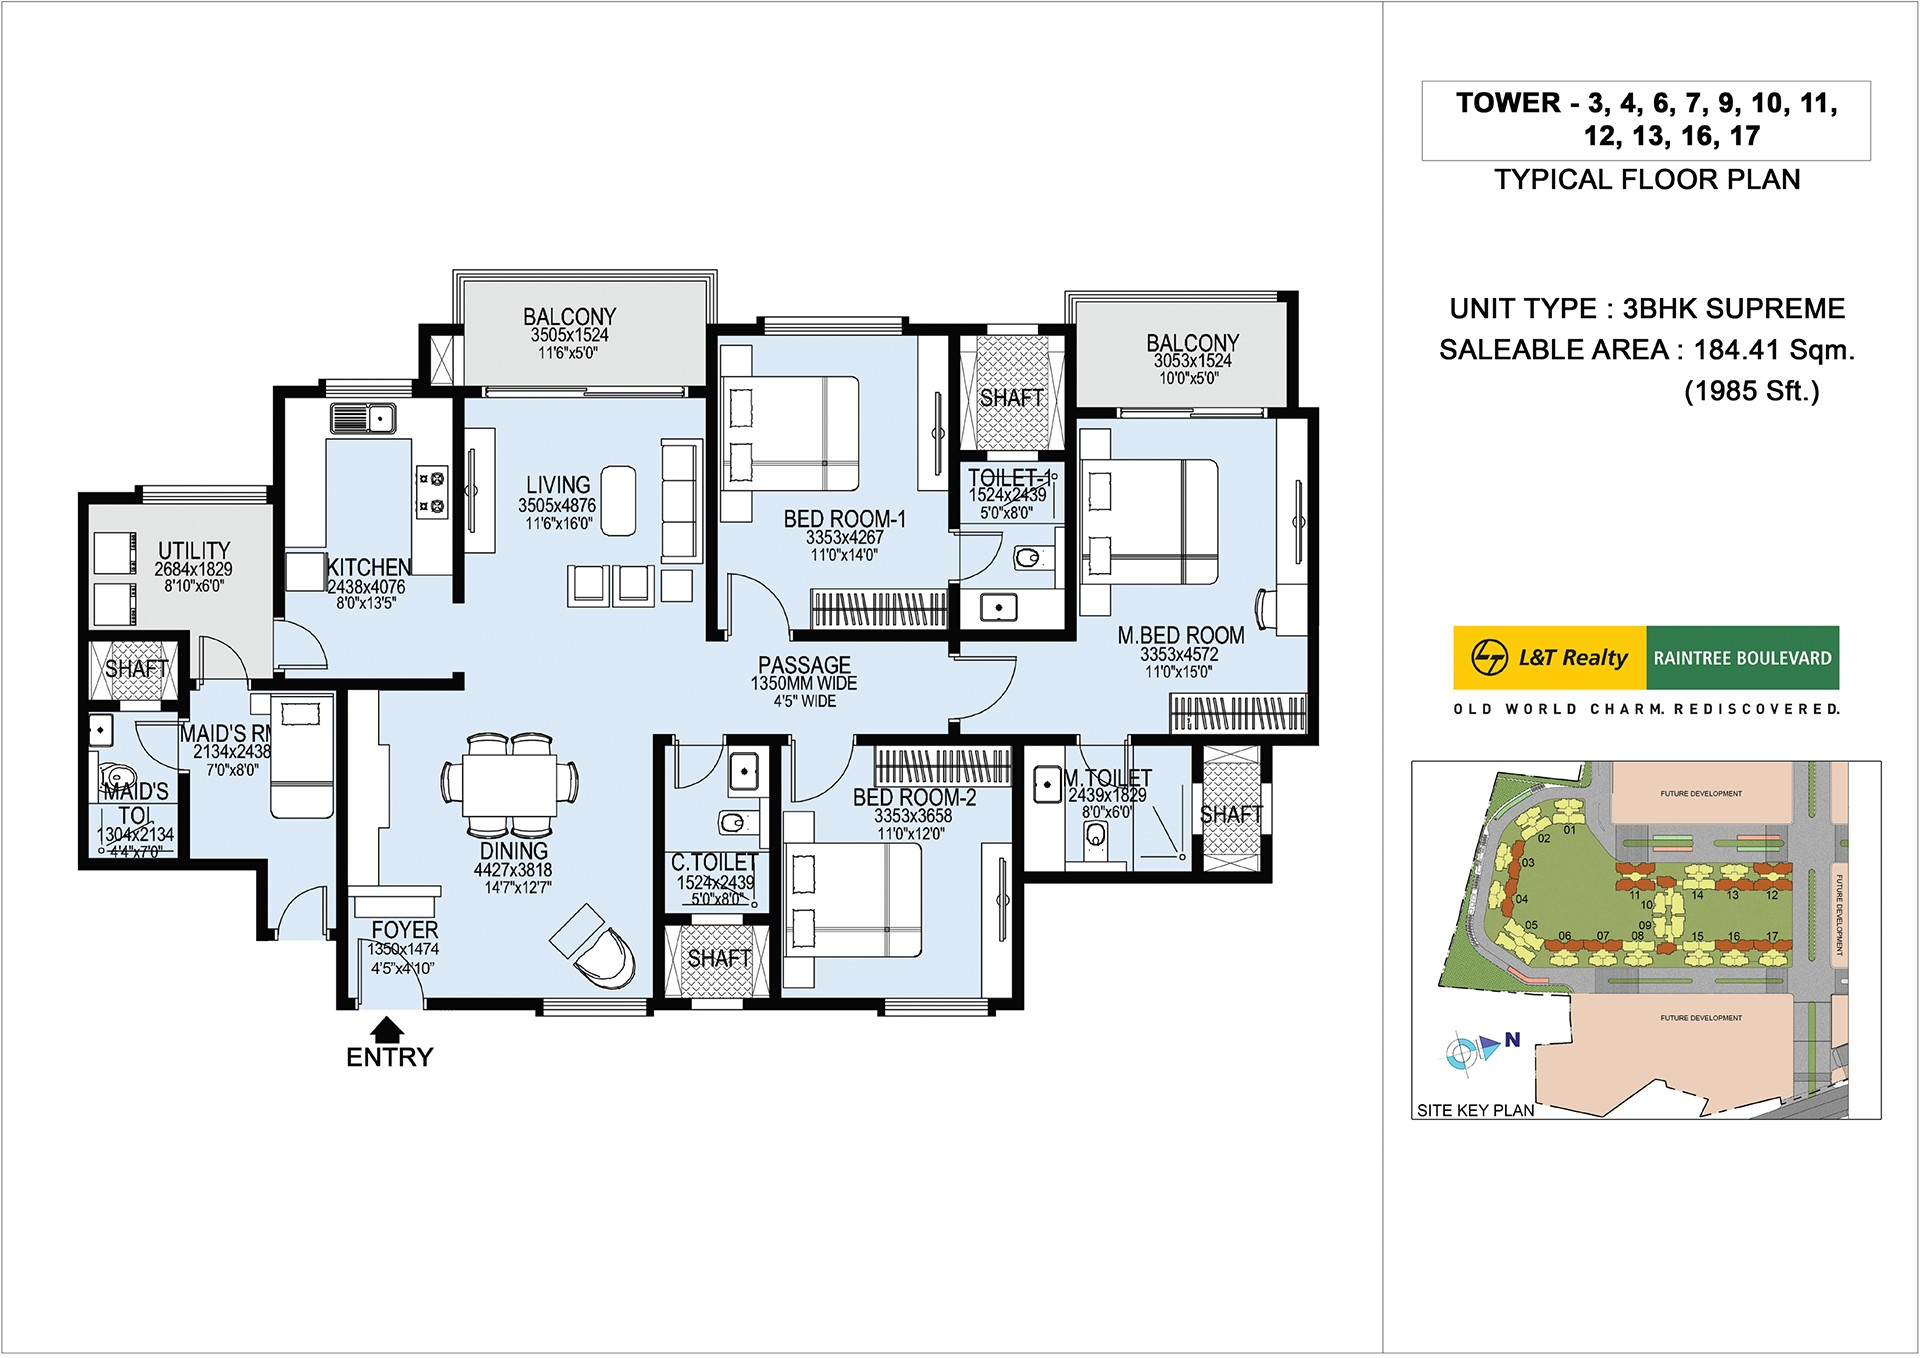window: (477, 384, 690, 403), (140, 479, 269, 509), (761, 315, 905, 339), (881, 994, 992, 1021), (1114, 404, 1271, 423), (541, 994, 649, 1020), (323, 376, 416, 403)
